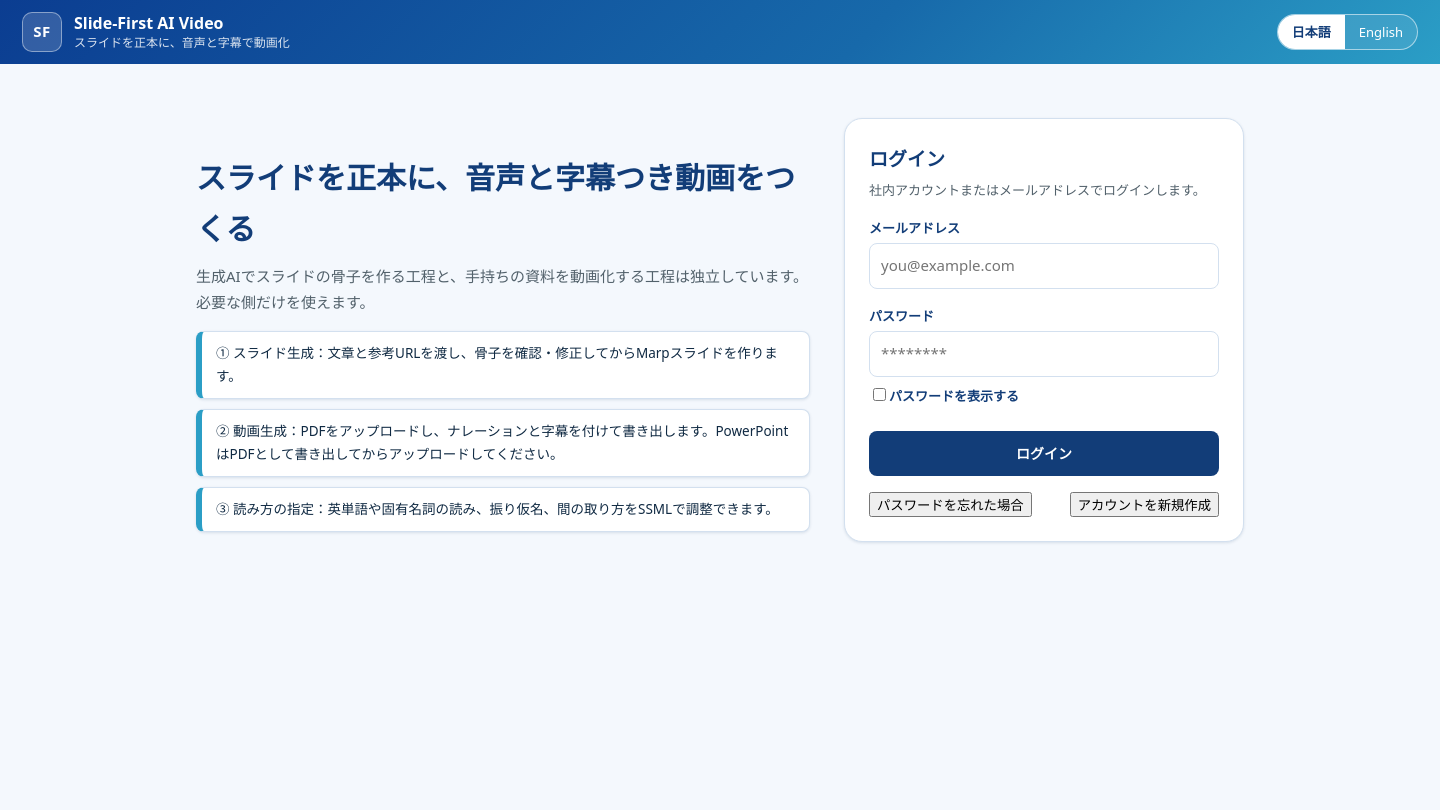
Test: LoginPage › switches to the sign up form when signup link is clicked
Click the button "アカウントを新規作成".
click(1144, 505)  # box [1070,492,1219,518]
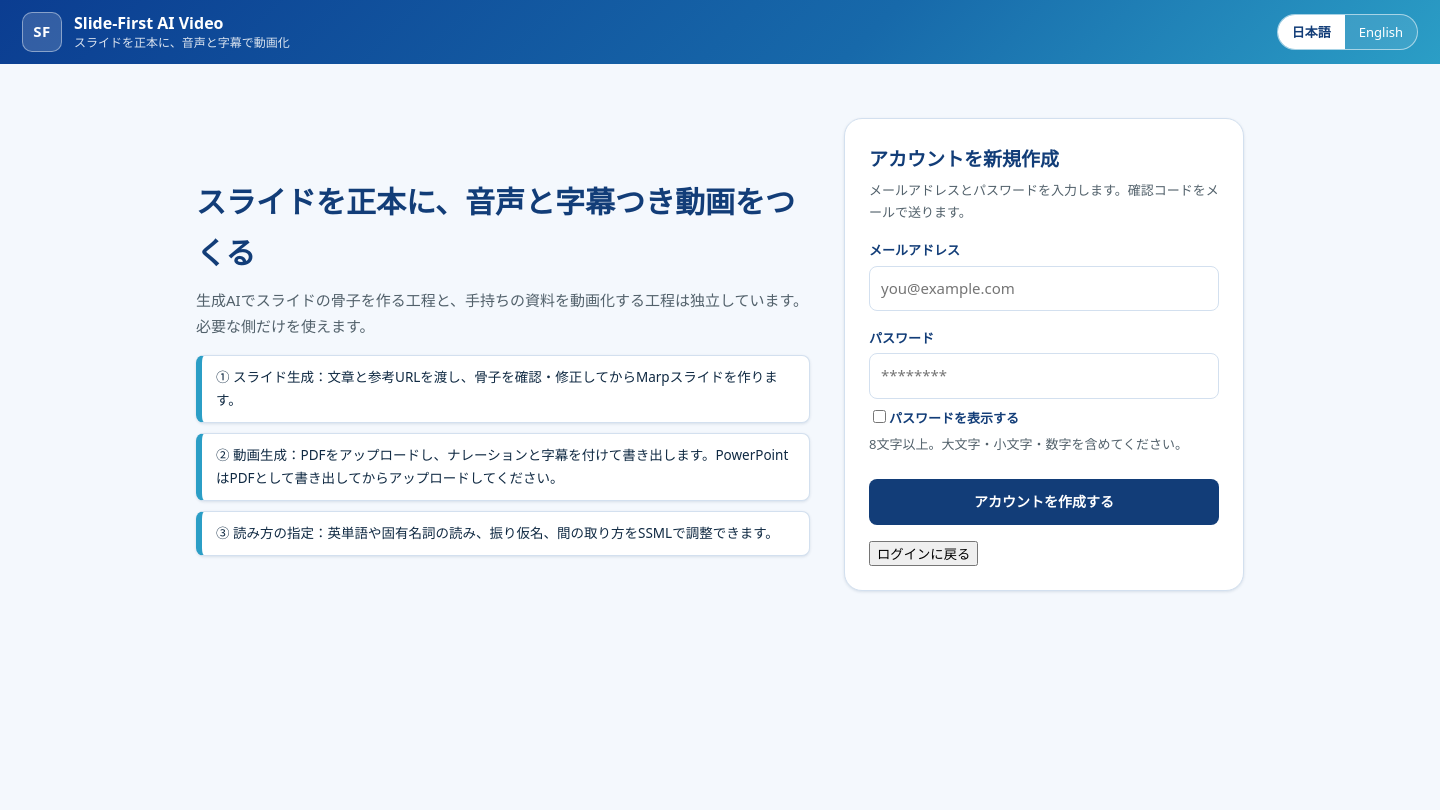
Expected: the text "メールアドレスとパスワードを入力します" is shown, [869,181,1219,221]
Expected: the text "アカウントを作成する" is shown, [869,479,1219,525]
